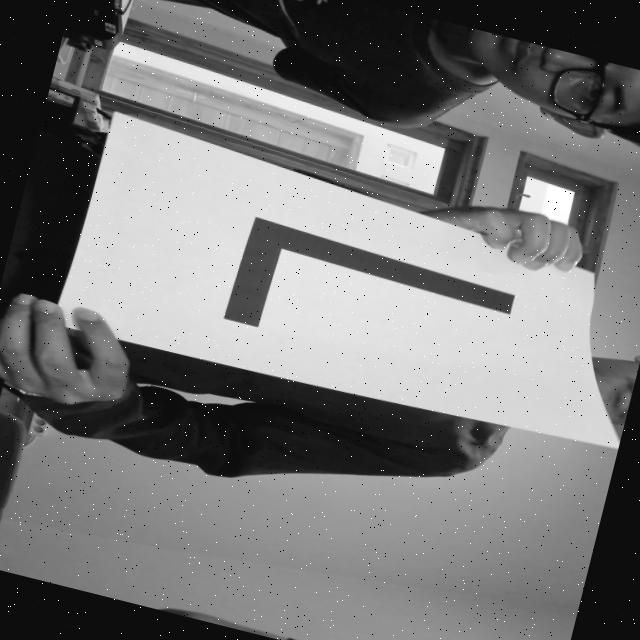l: (183, 190, 544, 406)
